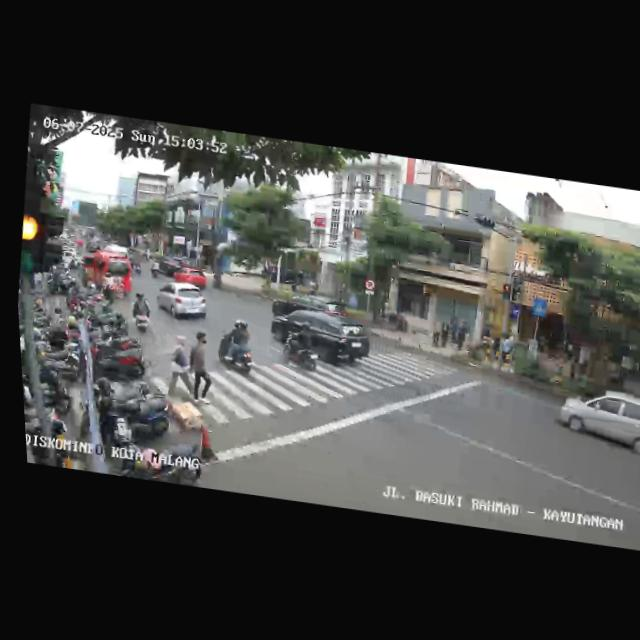car: (271, 303, 374, 374), (554, 380, 640, 459), (269, 289, 351, 329), (77, 246, 135, 301), (152, 279, 210, 326), (155, 254, 189, 280)
motorcycle: (214, 314, 260, 375), (280, 317, 323, 372), (128, 291, 156, 338), (130, 251, 145, 273)
person: (181, 329, 221, 409), (162, 334, 199, 404)
